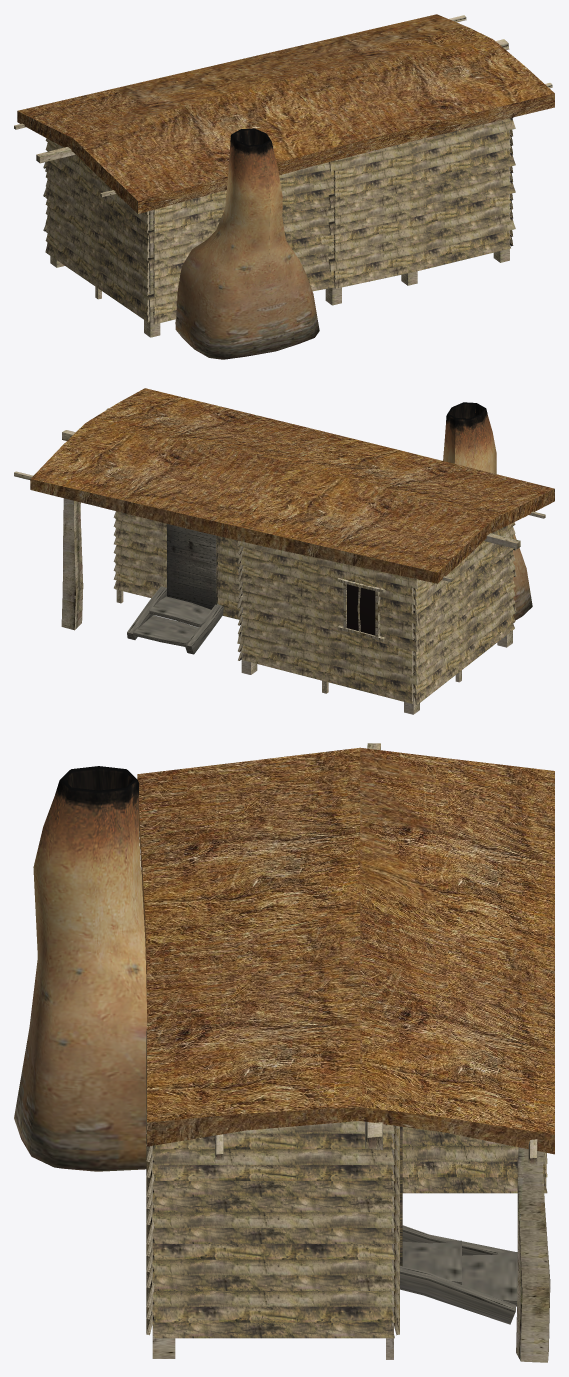
The model's file is houseFinExport.fbx.
The picture shows the model from 3 angles, top to bottom: view 1: azimuth 30°, elevation 25°; view 2: azimuth 150°, elevation 25°; view 3: azimuth 270°, elevation 25°; orthographic projection. The views are drawn at different scales.
Visible parts, largest first — view 1: polySurface24; view 2: polySurface24; view 3: polySurface24.
Boxes of the visible parts, left/top/right/bottom form: polySurface24: left=14, top=14, right=554, bottom=359; polySurface24: left=14, top=388, right=554, bottom=714; polySurface24: left=14, top=743, right=554, bottom=1362.
Bounding box in the file's own units: 815 × 341 × 467.
